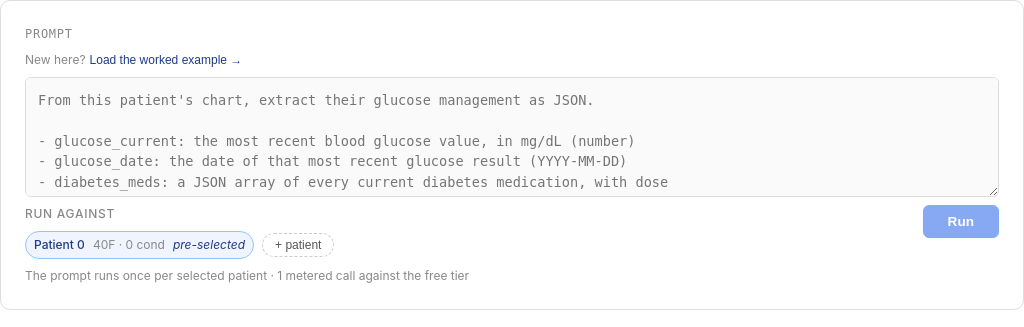
PromptCell (N8a) › load-the-worked-example fills the prompt
The image size is (1024, 327).
Click the button with test id "load-example". click: (166, 60)
box: [90, 53, 242, 67]
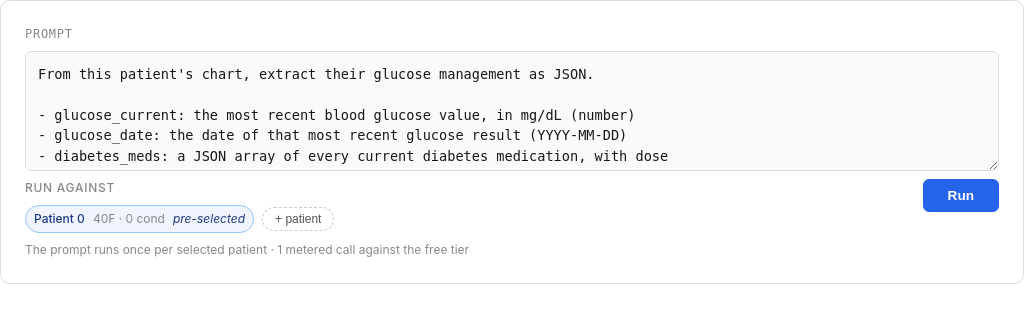
expect the text box with test id "prompt-input" holds "From this patient's chart, extract their glucose management as JSON. - glucose_current: the most recent blood glucose value, in mg/dL (number) - glucose_date: t": met, box [25, 51, 999, 171]
